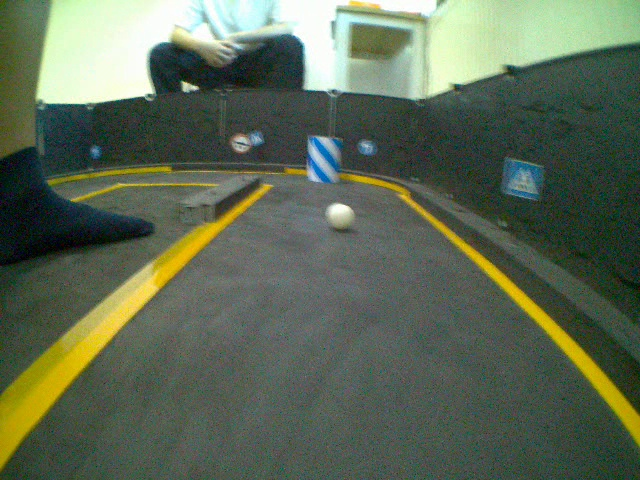ball: (325, 203, 355, 232)
bucket: (307, 132, 346, 186)
